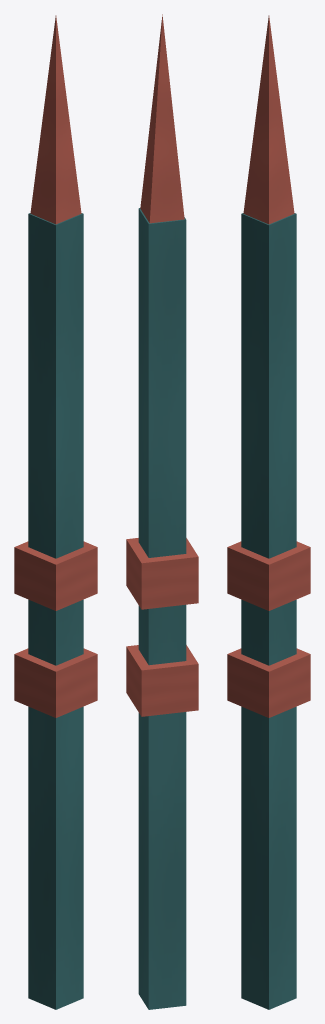
Rendered from atlas100-s031-a05.lod2.glb.
3 views of the same model, side by side, from view 1: azimuth 90°, elevation 25°; view 2: azimuth 150°, elevation 25°; view 3: azimuth 270°, elevation 25° (orthographic).
Parts seen in each view (by area): view 1: atlas100-s031-a05:part-000, atlas100-s031-a05:part-004, atlas100-s031-a05:part-002, atlas100-s031-a05:part-003; view 2: atlas100-s031-a05:part-000, atlas100-s031-a05:part-004, atlas100-s031-a05:part-002, atlas100-s031-a05:part-003; view 3: atlas100-s031-a05:part-000, atlas100-s031-a05:part-004, atlas100-s031-a05:part-002, atlas100-s031-a05:part-003.
Part boxes in pixels (x1=…): atlas100-s031-a05:part-000: x1=28, y1=213, x2=83, y2=1009; atlas100-s031-a05:part-004: x1=30, y1=15, x2=81, y2=224; atlas100-s031-a05:part-002: x1=14, y1=648, x2=97, y2=717; atlas100-s031-a05:part-003: x1=14, y1=541, x2=97, y2=610; atlas100-s031-a05:part-000: x1=138, y1=208, x2=186, y2=1009; atlas100-s031-a05:part-004: x1=140, y1=14, x2=184, y2=223; atlas100-s031-a05:part-002: x1=126, y1=645, x2=198, y2=716; atlas100-s031-a05:part-003: x1=126, y1=538, x2=198, y2=609; atlas100-s031-a05:part-000: x1=241, y1=213, x2=296, y2=1009; atlas100-s031-a05:part-004: x1=243, y1=15, x2=294, y2=224; atlas100-s031-a05:part-002: x1=227, y1=648, x2=310, y2=717; atlas100-s031-a05:part-003: x1=227, y1=541, x2=310, y2=610.
Size of the model in its own units: 0.1158 by 1.51 by 0.1158.
2 materials, 2 textured.
